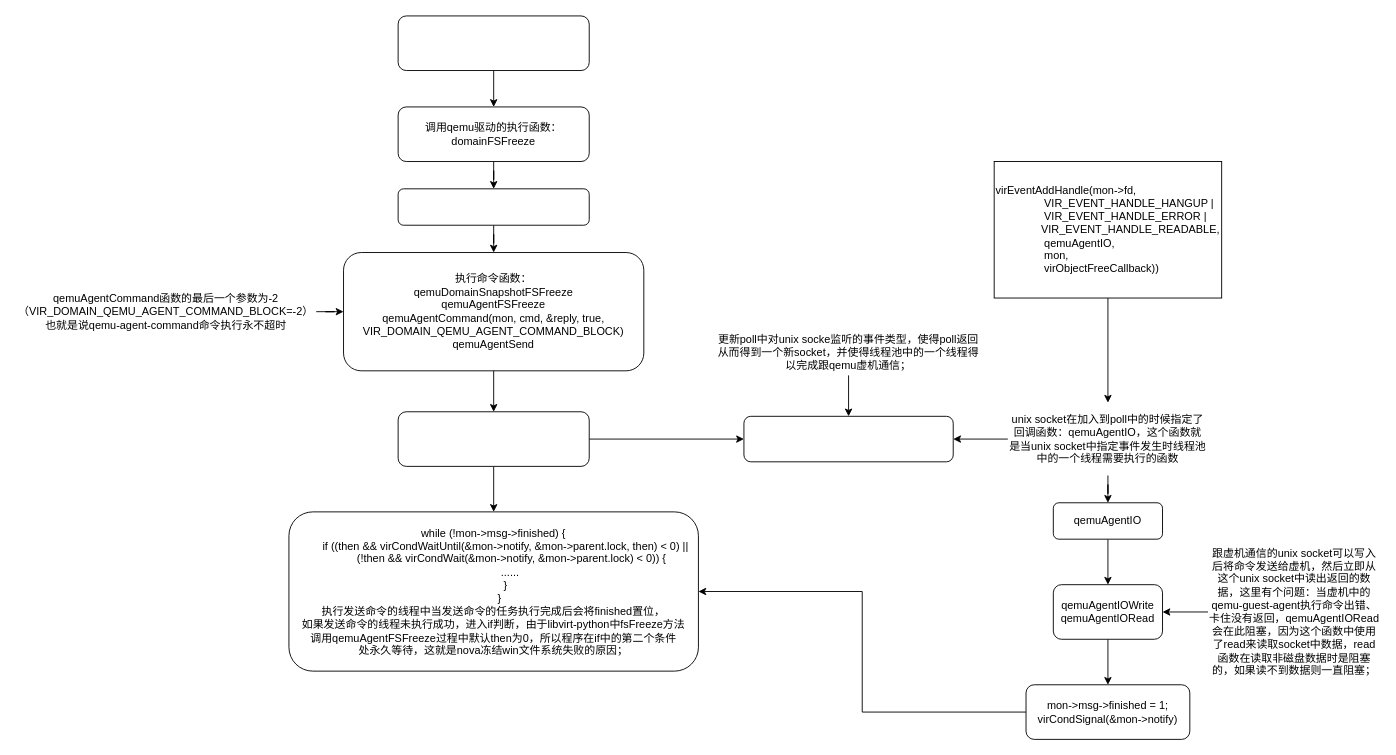
Some shapes in this 1396 by 755 pixel diagram are drawn without their labels. The shapes that lost their labels are listed below. From the top down, each one's centre as x and y in pixels, then its label:
At (493,43): "开始： virDomainFSFreeze".
At (493,206): "qemuDomainFSFreeze".
At (493,438): "qemuAgentUpdateWatch".
At (848,438): "virEventUpdateHandle".
